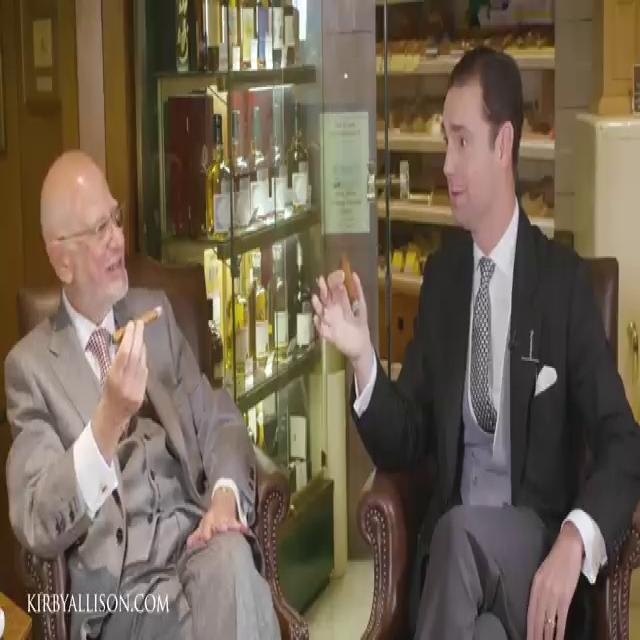Smooking: (97, 295, 166, 367), (332, 248, 369, 314)
